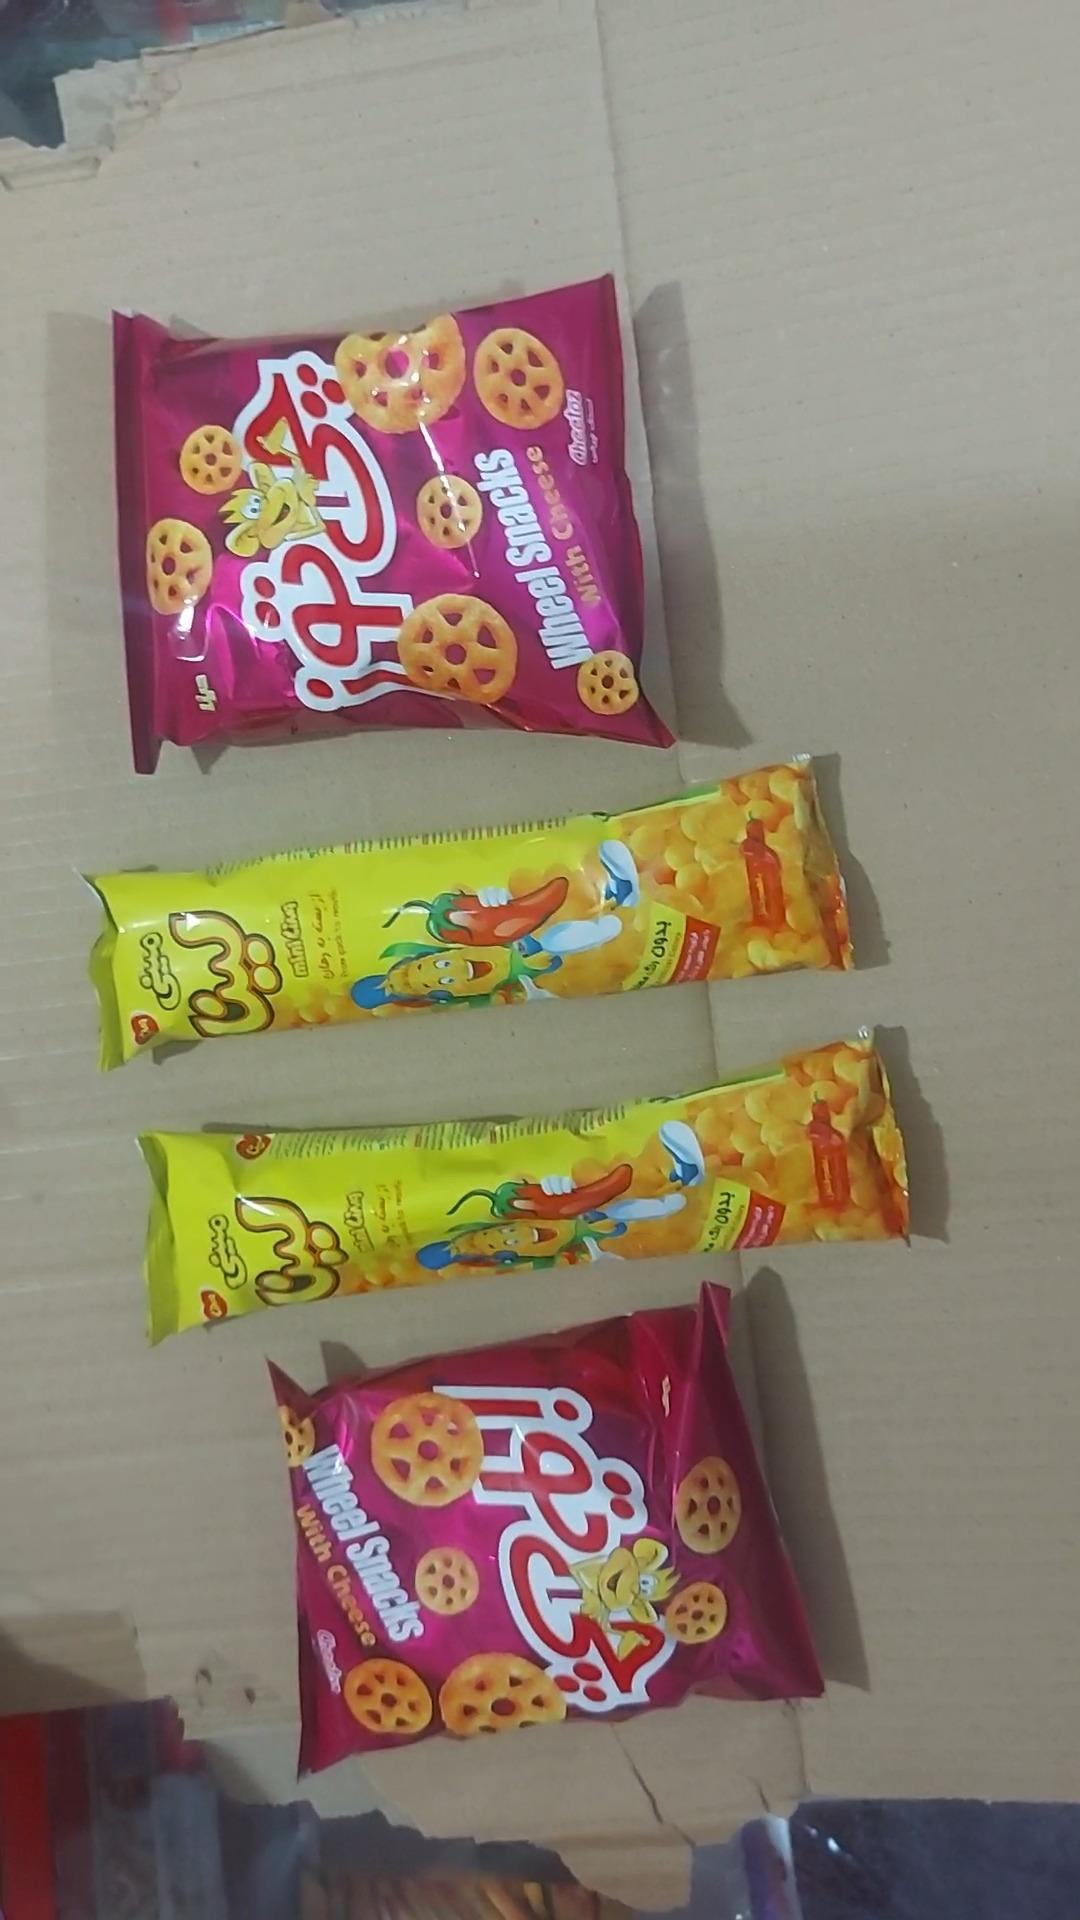Cheetoz wheelsnack: (113, 276, 671, 773), (269, 1288, 822, 1775)
Mini Lina: (87, 760, 852, 1068), (140, 1038, 909, 1342)
